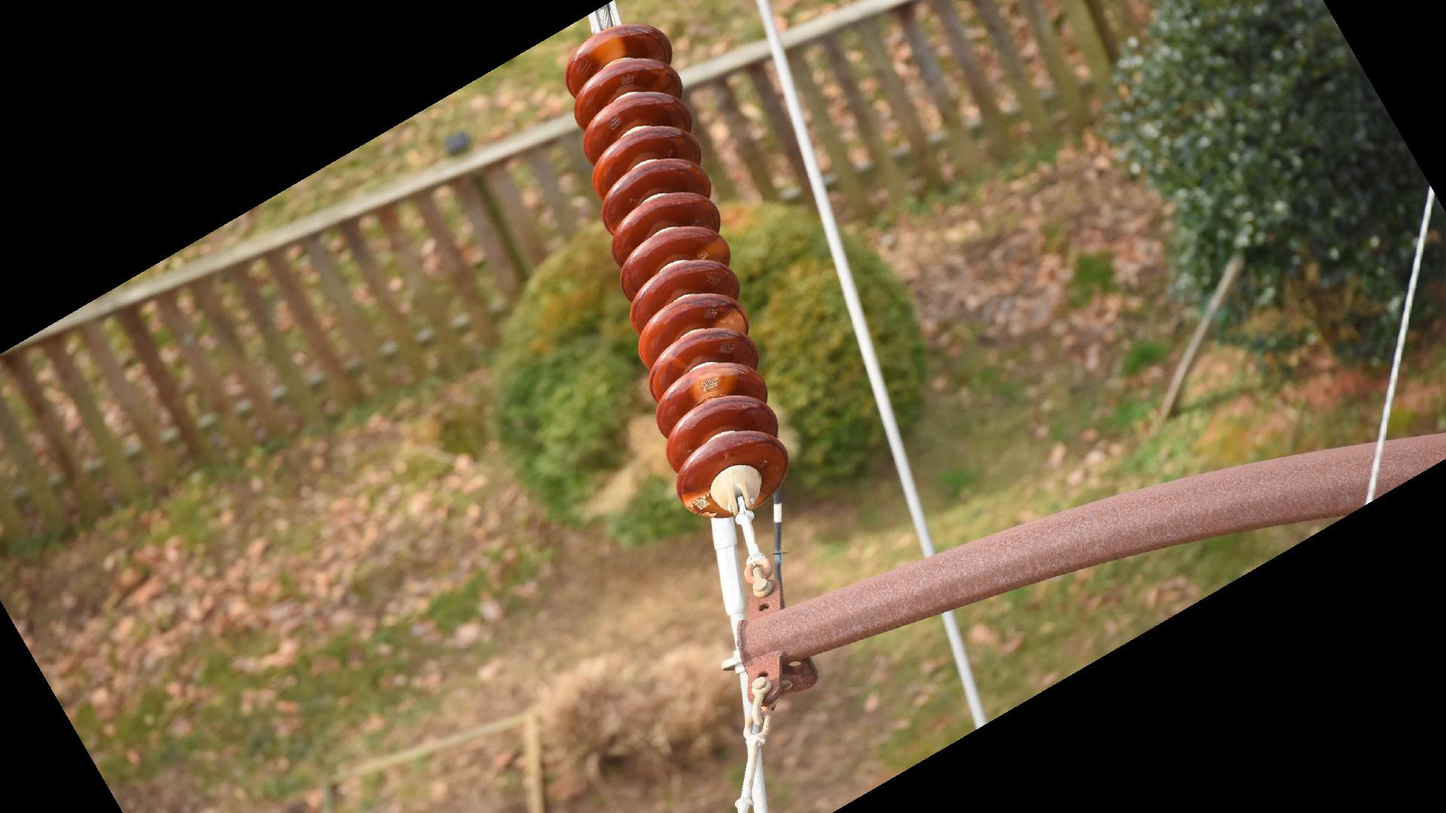insulator: (561, 18, 793, 527)
insulator_flashover: (685, 361, 742, 406), (676, 489, 733, 522), (584, 28, 628, 68), (713, 304, 752, 336)
